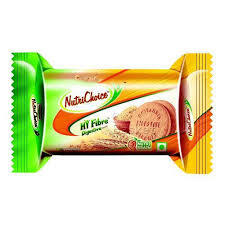VEG: (156, 142, 167, 152)
